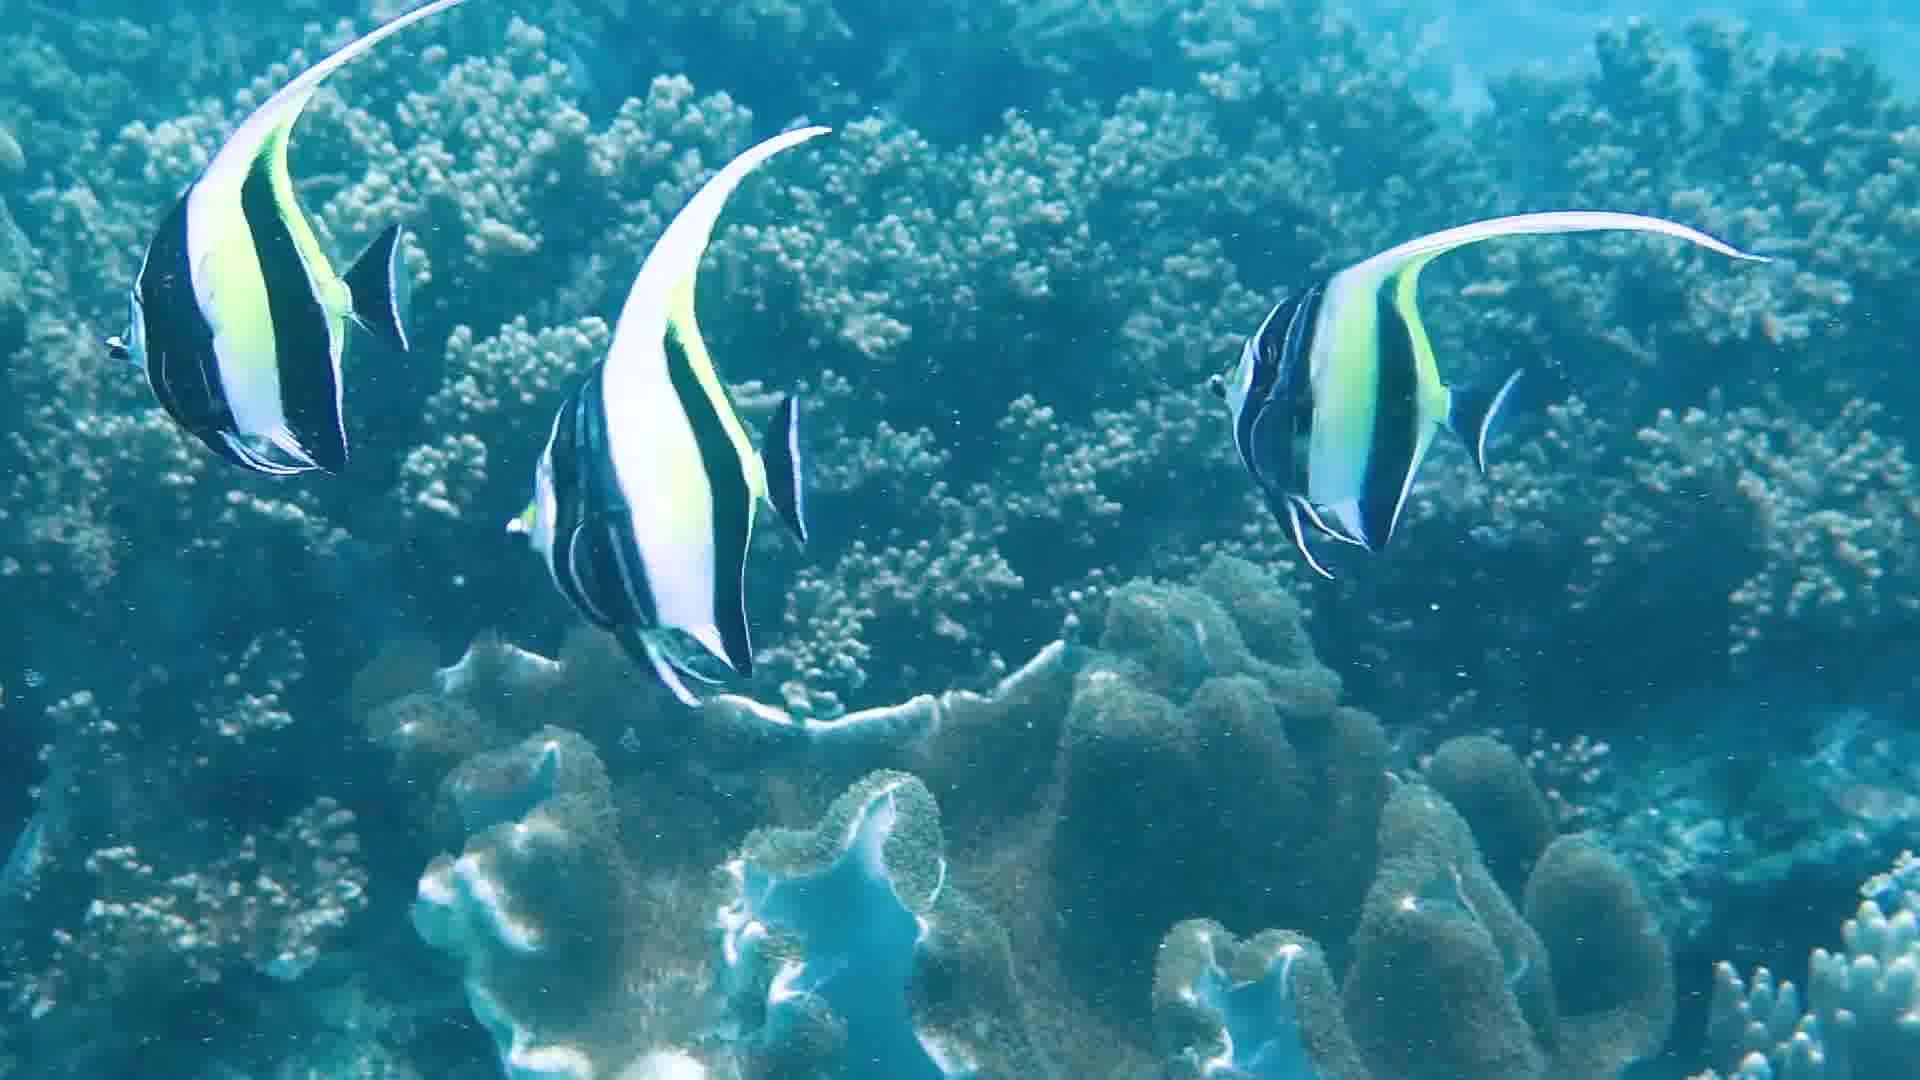Zanclus cornutus: (476, 316, 843, 680), (128, 113, 440, 480), (1207, 218, 1526, 567)
